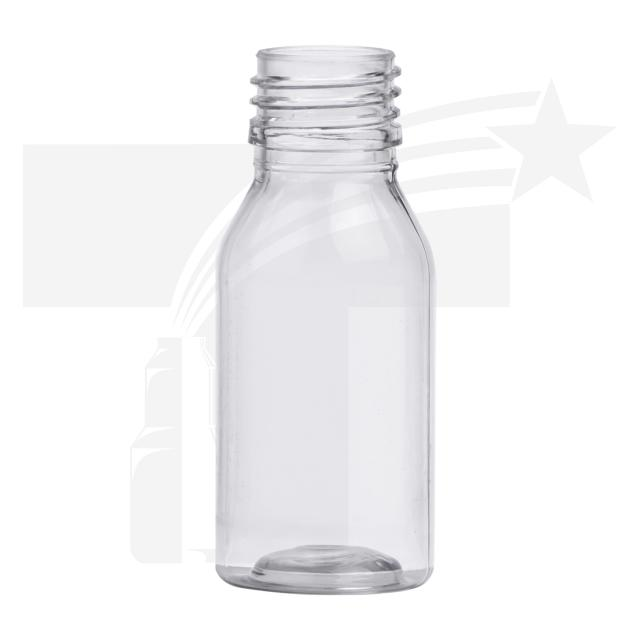bottle: (199, 41, 449, 604)
